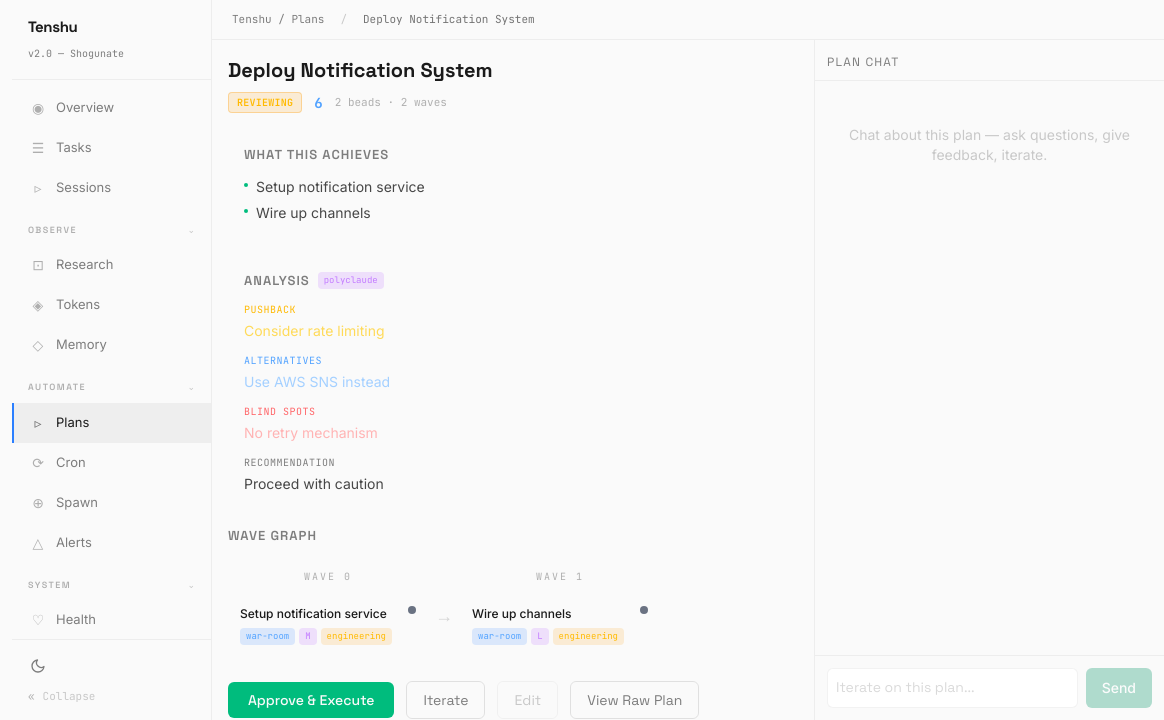
PlanDetailPage › expands raw markdown when toggle clicked
This screenshot has width=1164, height=720.
Expected: the heading "What This Achieves" is shown, left=244, top=146, right=389, bottom=163
What coordinates should you click on to do the following:
click the button "View Raw Plan"
I would click on:
 (635, 700)
Its box is left=570, top=681, right=699, bottom=719.
(page scrolled)
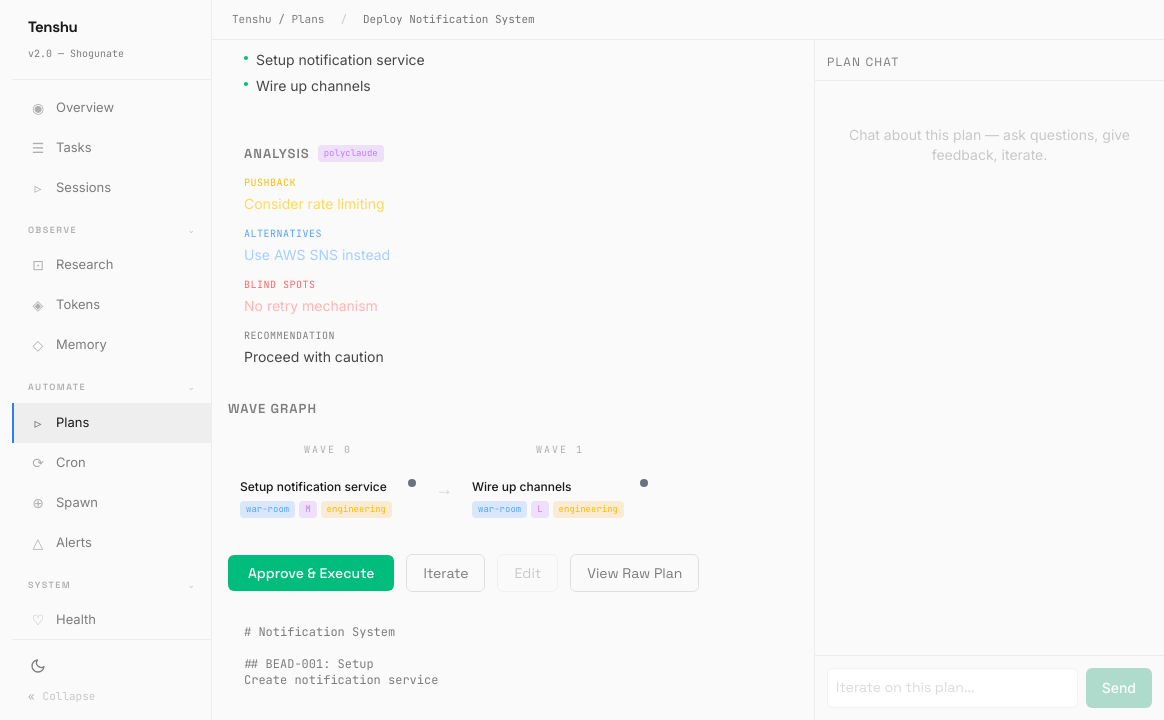
Now the text "# Notification System" is shown, box left=244, top=624, right=438, bottom=688
